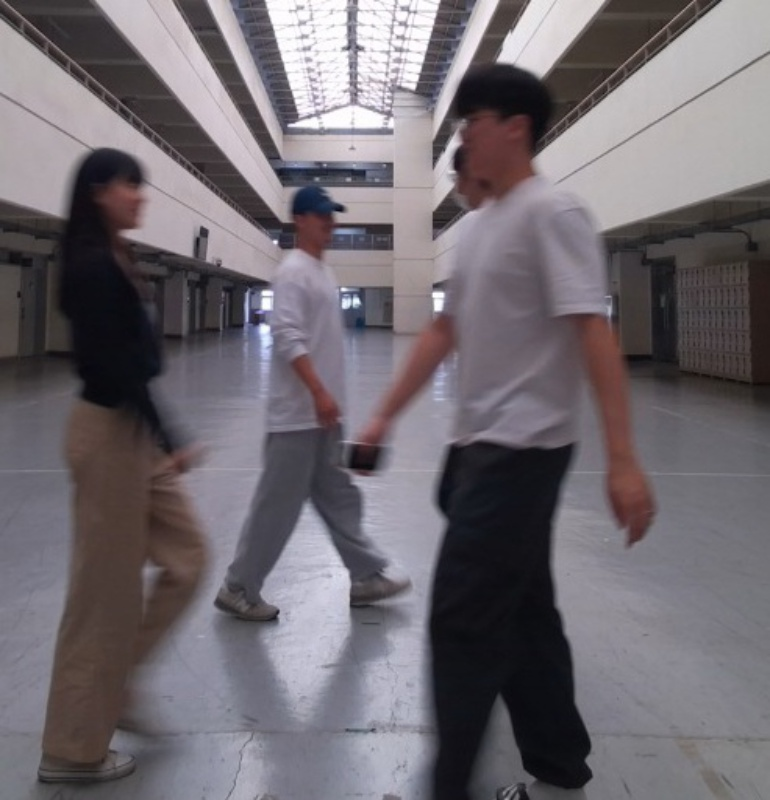person: (213, 185, 418, 620)
